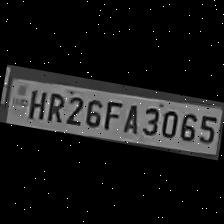0: (156, 104, 180, 140)
2: (60, 90, 86, 126)
3: (137, 102, 161, 138)
5: (194, 110, 218, 145)
6: (80, 94, 104, 129), (175, 108, 199, 142)
A: (118, 98, 142, 134)
F: (100, 96, 124, 132)
H: (22, 84, 48, 121)
R: (42, 88, 66, 124)
